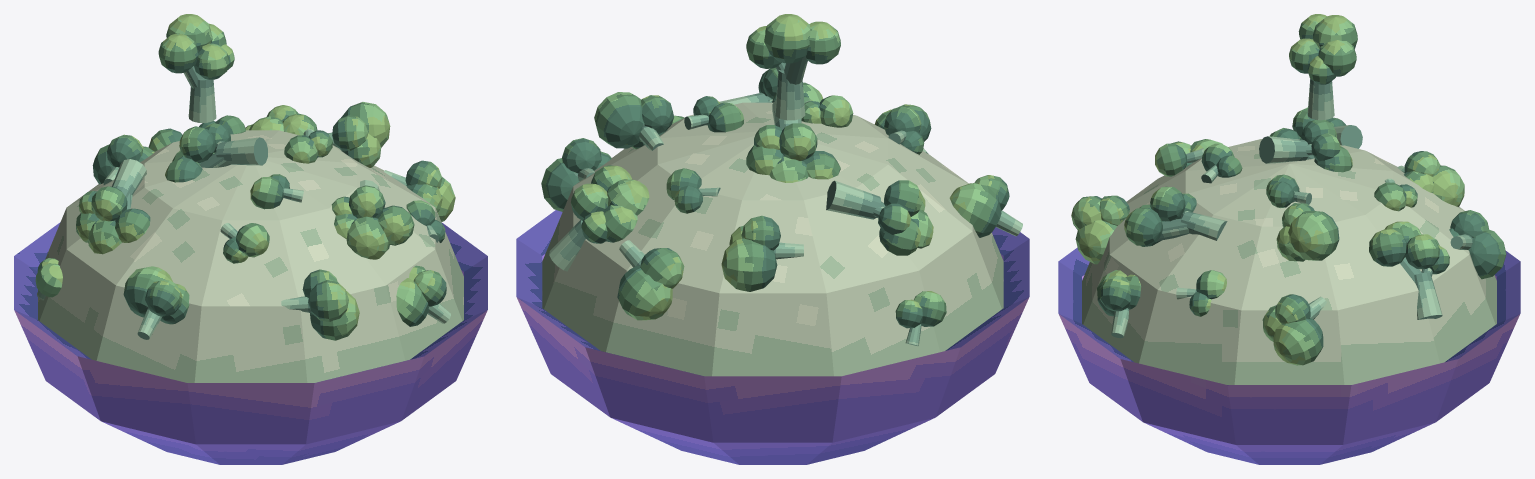
The model's file is Broccoli Bowl model.gltf.
3 views of the same model, side by side, from view 1: azimuth 30°, elevation 25°; view 2: azimuth 150°, elevation 25°; view 3: azimuth 270°, elevation 25° (orthographic). The views are drawn at different scales.
Parts seen in each view (by area): view 1: Candy outline, cylinder (×17), Bowl; view 2: Candy outline, cylinder (×16), Bowl; view 3: Candy outline, cylinder (×16), Bowl.
Part boxes in pixels (x1,y1,x2,y2): Candy outline: (38,130,463,382); cylinder (×17): (35,14,455,340); Bowl: (14,222,487,464); Candy outline: (542,102,1003,376); cylinder (×16): (541,14,1022,345); Bowl: (516,210,1029,464); Candy outline: (1082,139,1496,384); cylinder (×16): (1071,14,1506,365); Bowl: (1058,247,1520,464).
Bounding box in the file's own units: 1.67 × 1.52 × 1.67.
5 materials, 5 textured.
